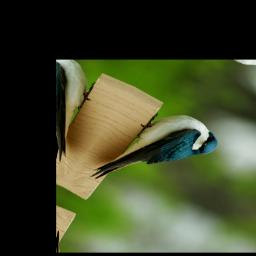Swallow: (87, 94, 227, 217)
